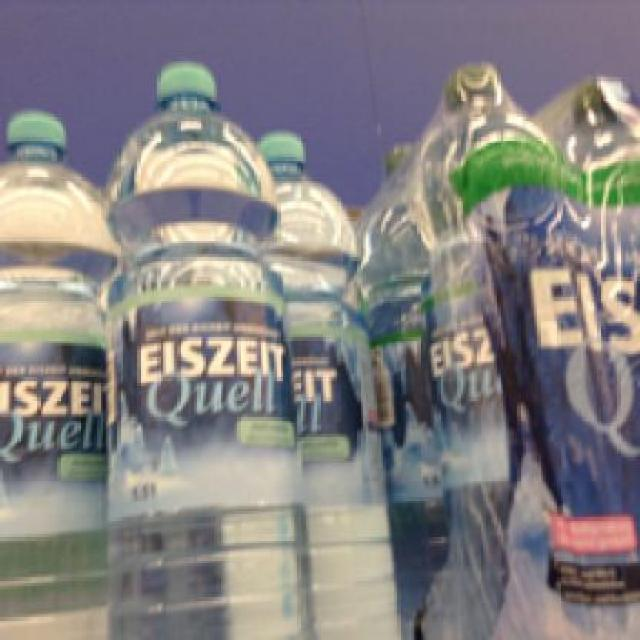Water: (98, 57, 312, 637), (405, 56, 578, 630), (0, 108, 106, 638)
